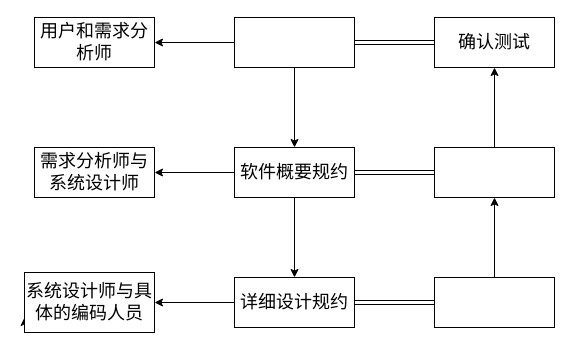
Image size: 572x358. Some labels were removed from this diagram. Here are the shapes that lost their labels. From the top down, the centre of each, then its label:
At (x=294, y=42): "软件需求规约".
At (x=494, y=172): "集成测试".
At (x=494, y=302): "单元测试".
